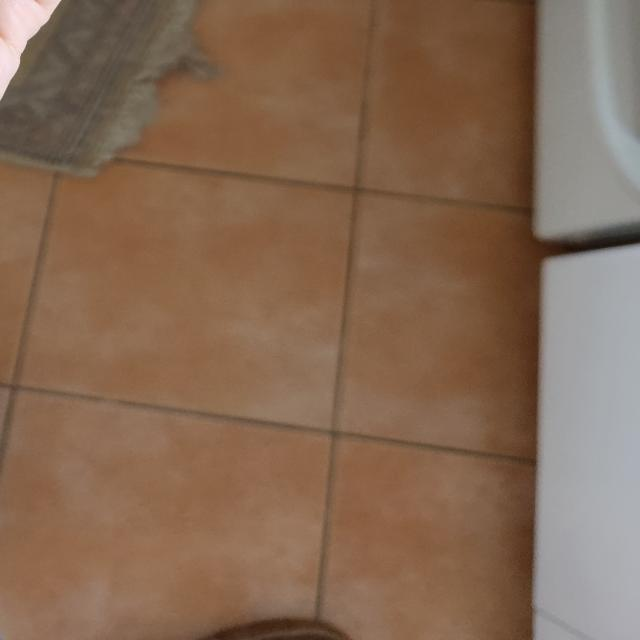grapes: (0, 0, 12, 34)
